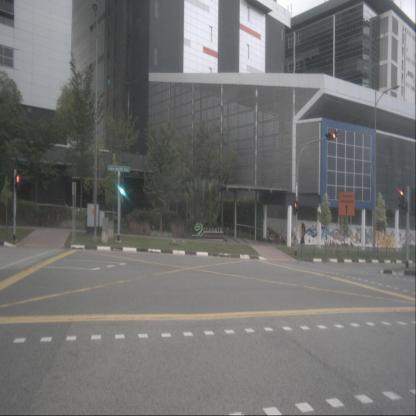vehicle-bicycle: (264, 227, 276, 243), (278, 229, 288, 245), (290, 230, 298, 247)
